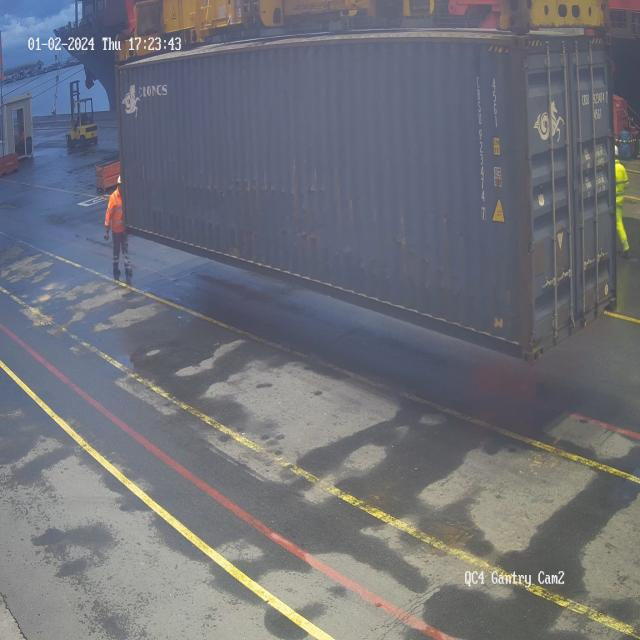dent: (154, 200, 479, 308), (180, 165, 334, 205)
